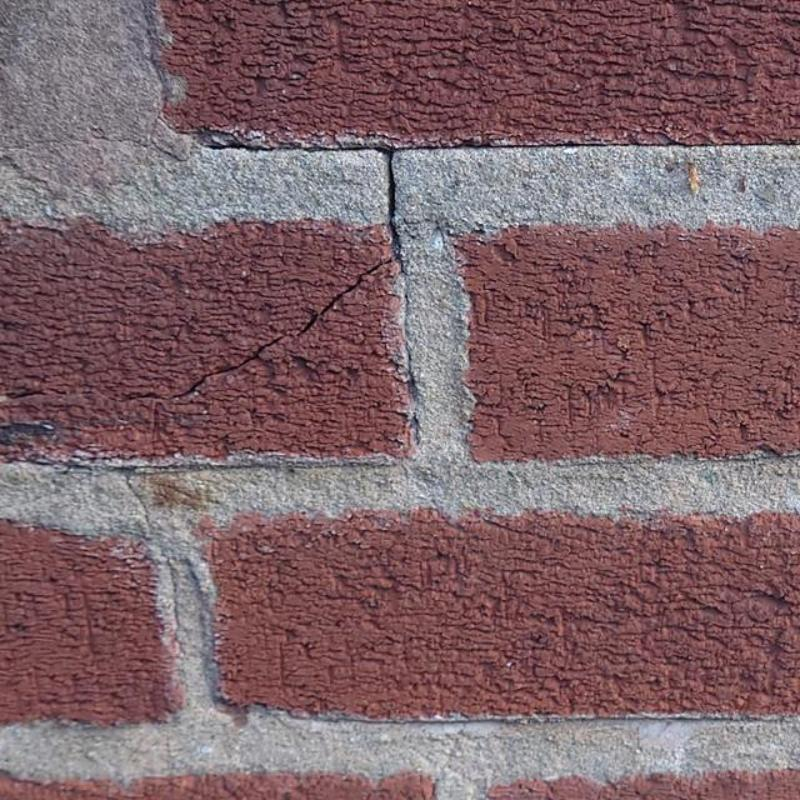pothole: (163, 334, 284, 400), (297, 257, 392, 335), (373, 149, 400, 258)
